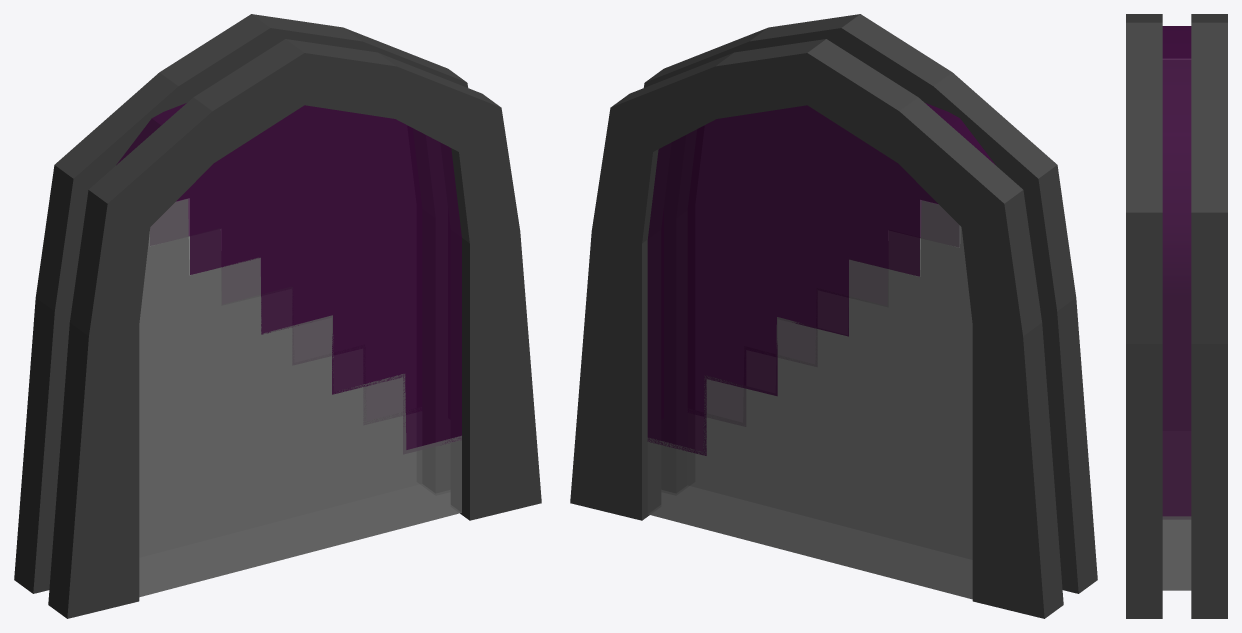
File: doornormal.fbx
3 views of the same model, side by side, from view 1: azimuth 30°, elevation 25°; view 2: azimuth 150°, elevation 25°; view 3: azimuth 270°, elevation 25° (orthographic). The views are drawn at different scales.
Parts seen in each view (by area): view 1: polySurface6, polySurface5, polySurface4; view 2: polySurface6, polySurface5, polySurface4; view 3: polySurface6, polySurface4, polySurface5.
Boxes of the visible parts, x1,y1,x2,y2 form: polySurface6: (14, 14, 541, 618); polySurface5: (139, 199, 461, 597); polySurface4: (116, 103, 461, 453); polySurface6: (570, 14, 1097, 618); polySurface5: (647, 200, 972, 599); polySurface4: (647, 103, 995, 455); polySurface6: (1126, 14, 1227, 618); polySurface4: (1162, 26, 1191, 518); polySurface5: (1162, 516, 1191, 590).
Size of the model in its own units: 14.33 by 14.77 by 2.78.
